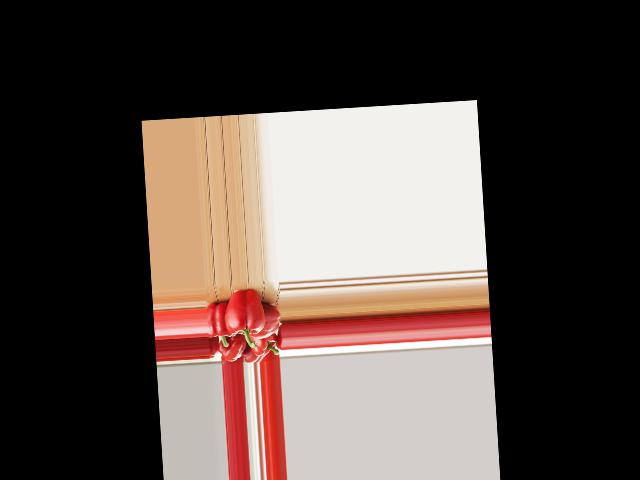bell_pepper: (250, 331, 280, 357)
